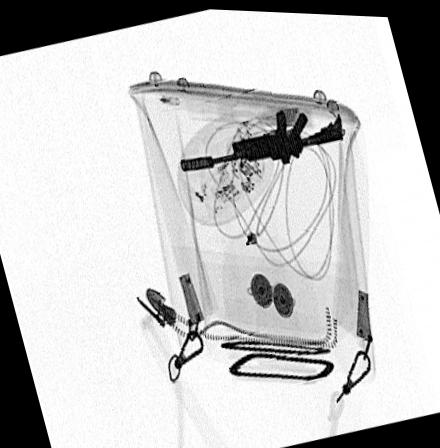Gun: (180, 104, 346, 169)
